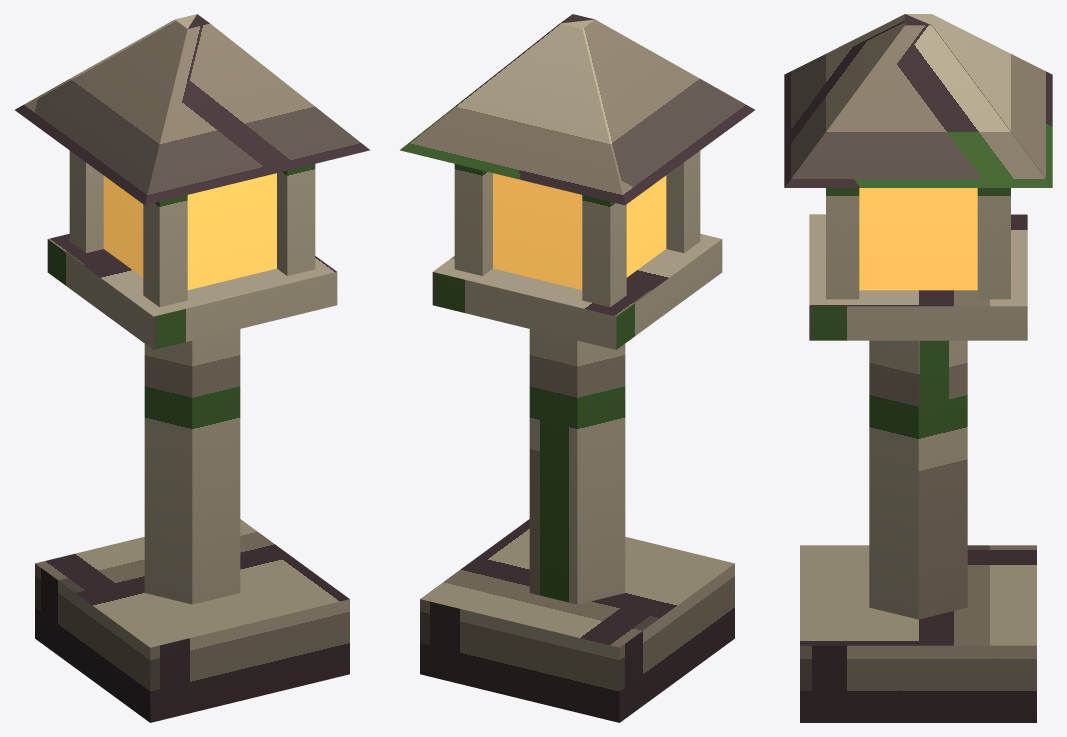
File: stone_lantern.glb
3 views of the same model, side by side, from view 1: azimuth 30°, elevation 25°; view 2: azimuth 150°, elevation 25°; view 3: azimuth 270°, elevation 25° (orthographic). The views are drawn at different scales.
Visible parts, largest first — view 1: stone_lantern; view 2: stone_lantern; view 3: stone_lantern.
Part boxes in pixels (x1,y1,x2,y2): stone_lantern: [15, 14, 369, 722]; stone_lantern: [400, 14, 754, 722]; stone_lantern: [784, 14, 1052, 722].
Bounding box in the file's own units: 0.5657 × 1.52 × 0.5657.
Materials: 3 (1 with a texture image).
